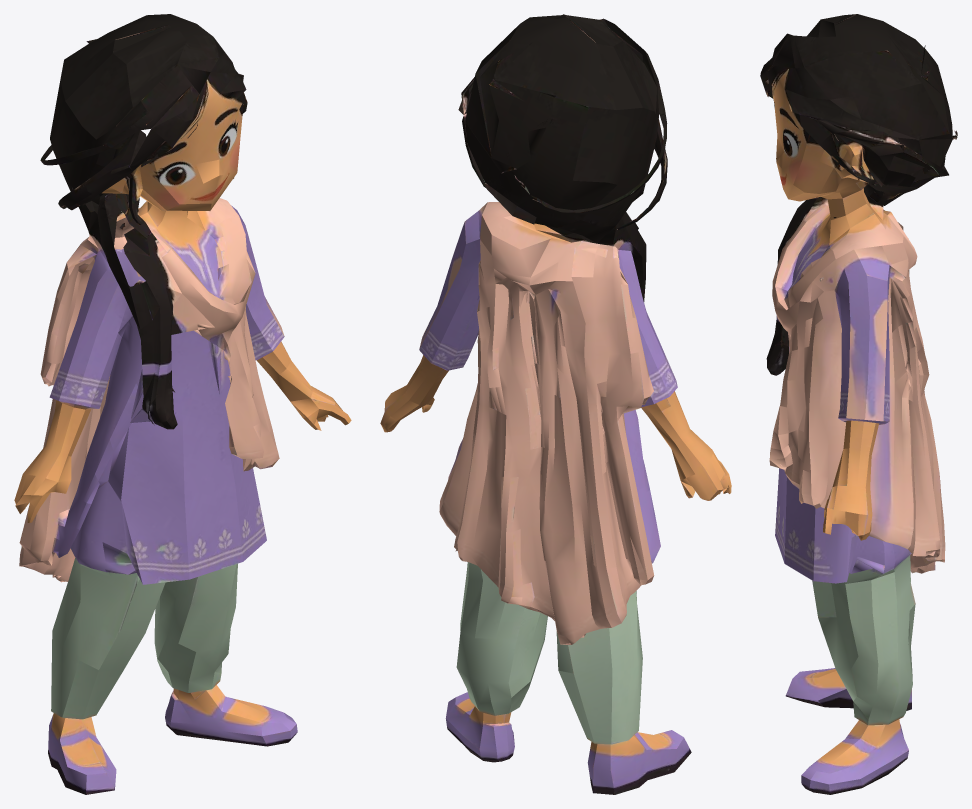
The model's file is zara.glb.
3 renders of one model, left to right at view 1: azimuth 30°, elevation 25°; view 2: azimuth 150°, elevation 25°; view 3: azimuth 270°, elevation 25°, orthographic. The views are drawn at different scales.
Parts seen in each view (by area): view 1: Mesh0; view 2: Mesh0; view 3: Mesh0.
Part boxes in pixels (left/top/right/bottom): Mesh0: left=14, top=14, right=351, bottom=794; Mesh0: left=380, top=14, right=731, bottom=794; Mesh0: left=760, top=14, right=957, bottom=794.
Size of the model in its own units: 0.9085 by 1.9 by 0.4719.
1 material, 1 textured.
